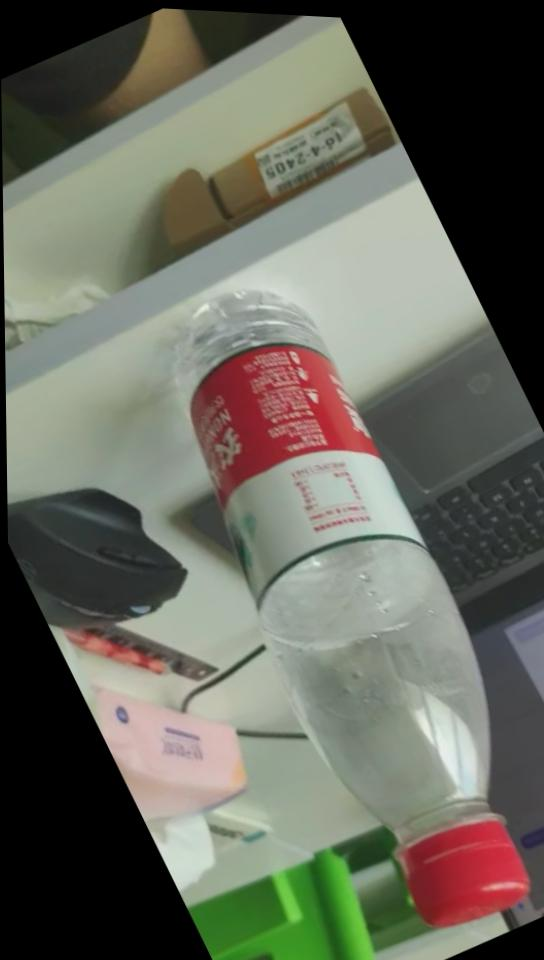plastic: (104, 243, 544, 959)
